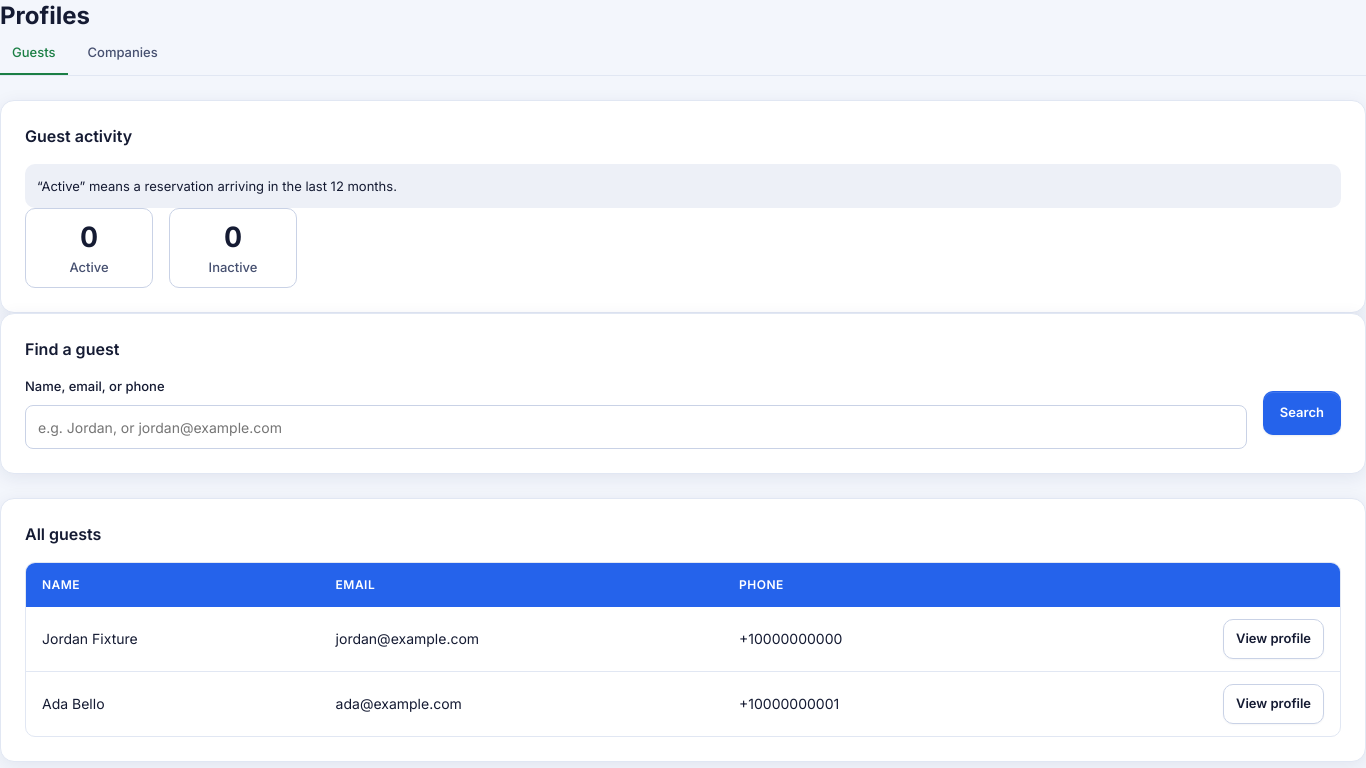
<ProfilesScreen> › searches and narrows to matching guests, replacing the full list
Expected: the text "ada@example.com" is shown, [320,671,723,736]
In the field labelled "Name, email, or phone": [636, 427] box [25,405,1247,449], type "Jordan"
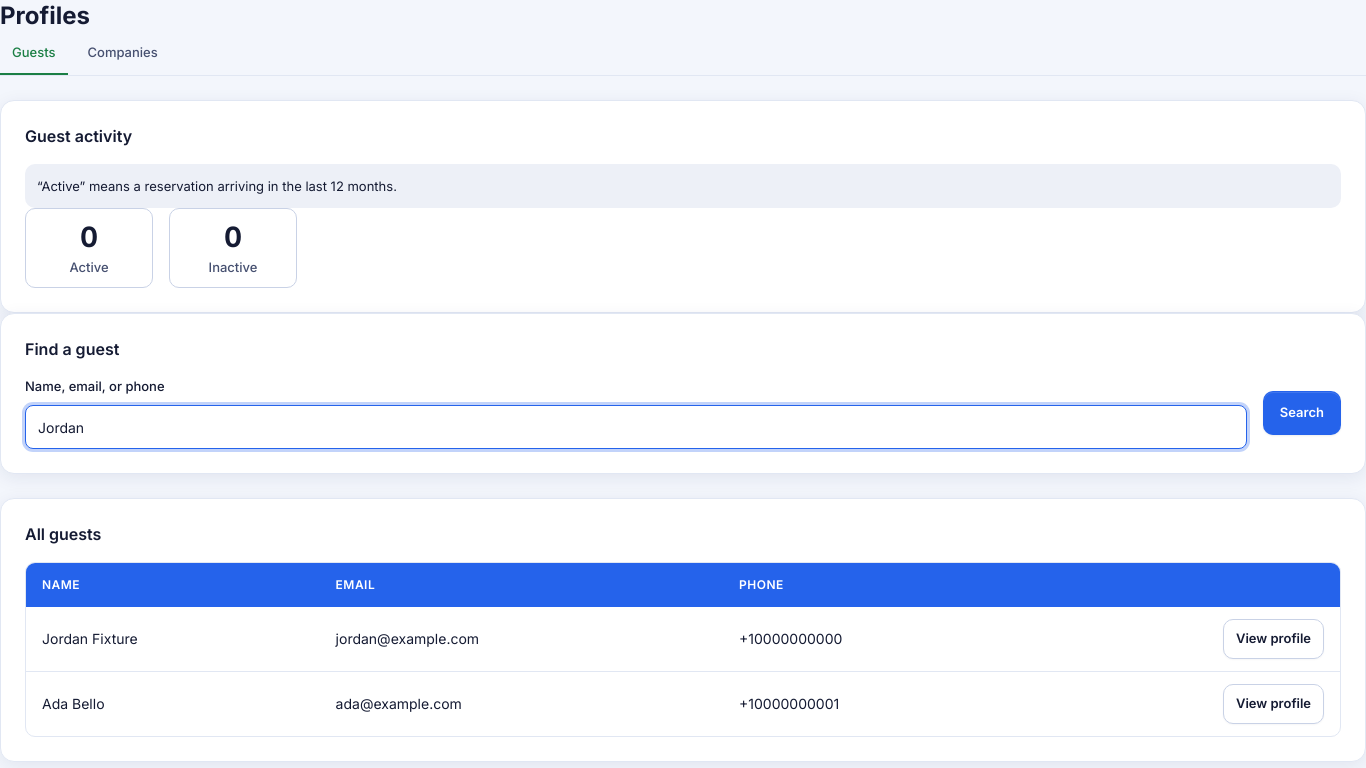
Click the button "Search": [1302, 413] box [1263,391,1341,435]
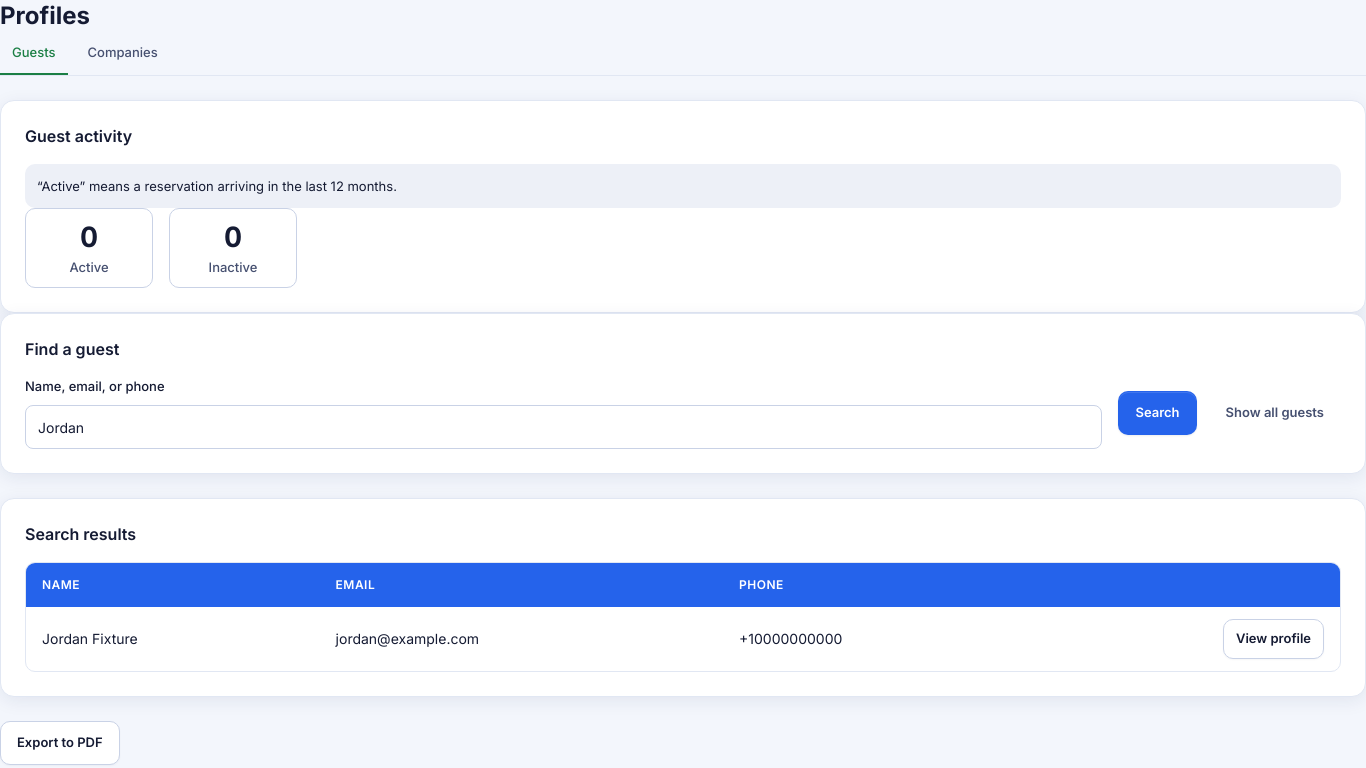
Expected: the text "jordan@example.com" is shown, [320,606,723,671]
Now the text "ada@example.com" is gone
Now the heading "Search results" is shown, box [25,524,136,544]
